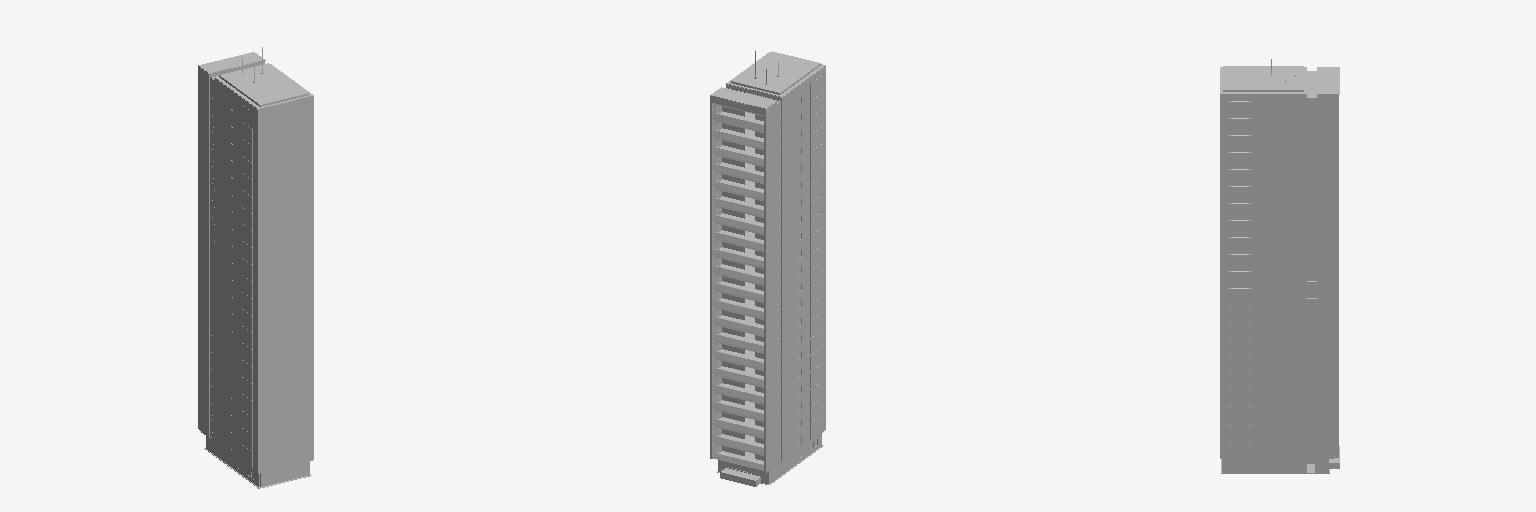
Rendered from ResidentialBuildings009.obj.
3 views of the same model, side by side, from view 1: azimuth 30°, elevation 25°; view 2: azimuth 150°, elevation 25°; view 3: azimuth 270°, elevation 25° (orthographic).
Parts seen in each view (by area): view 1: Residential_Buildings_009_Cube.004; view 2: Residential_Buildings_009_Cube.004; view 3: Residential_Buildings_009_Cube.004.
Boxes of the visible parts, x1=… form: Residential_Buildings_009_Cube.004: x1=198, y1=47, x2=313, y2=488; Residential_Buildings_009_Cube.004: x1=710, y1=51, x2=825, y2=486; Residential_Buildings_009_Cube.004: x1=1220, y1=59, x2=1339, y2=473.
Size of the model in its own units: 12.59 by 86.79 by 23.1.